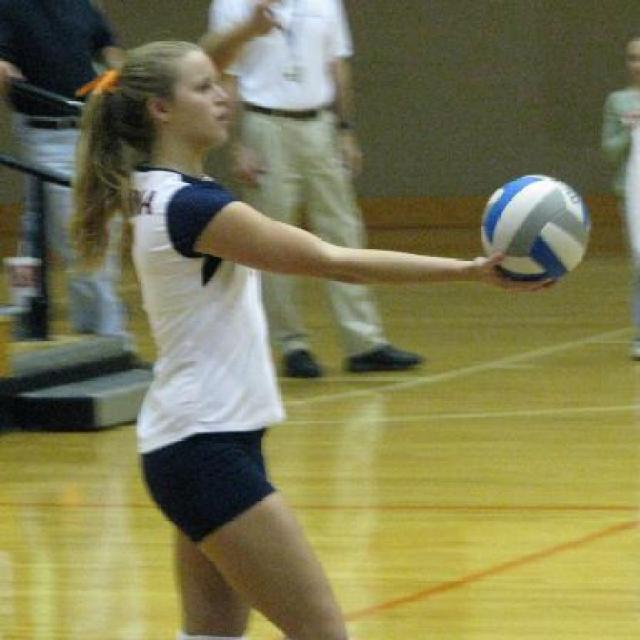volleyball: (480, 173, 590, 283)
